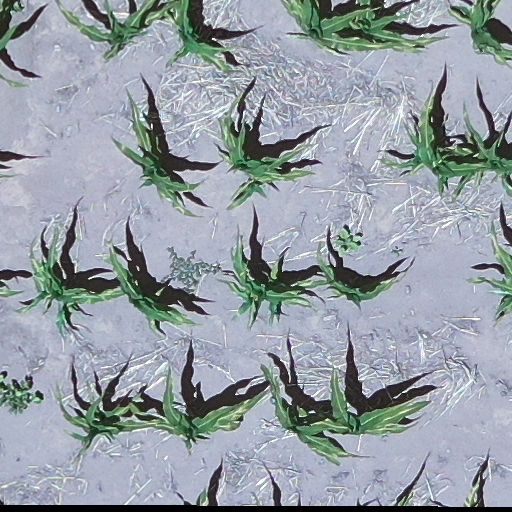planta: (376, 83, 487, 200), (15, 227, 128, 340), (126, 367, 265, 457), (111, 88, 205, 218), (216, 93, 319, 211), (260, 364, 367, 465), (219, 229, 319, 330), (296, 363, 433, 436), (107, 238, 200, 339), (58, 390, 157, 463), (289, 244, 395, 305)
